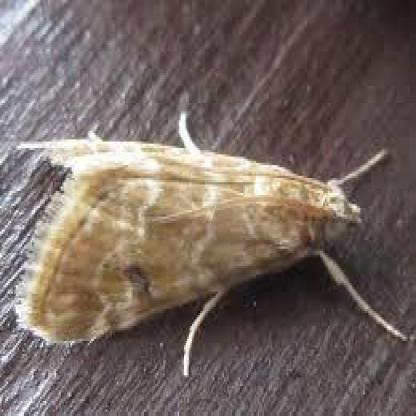Hellula undalis: (11, 105, 412, 381)
